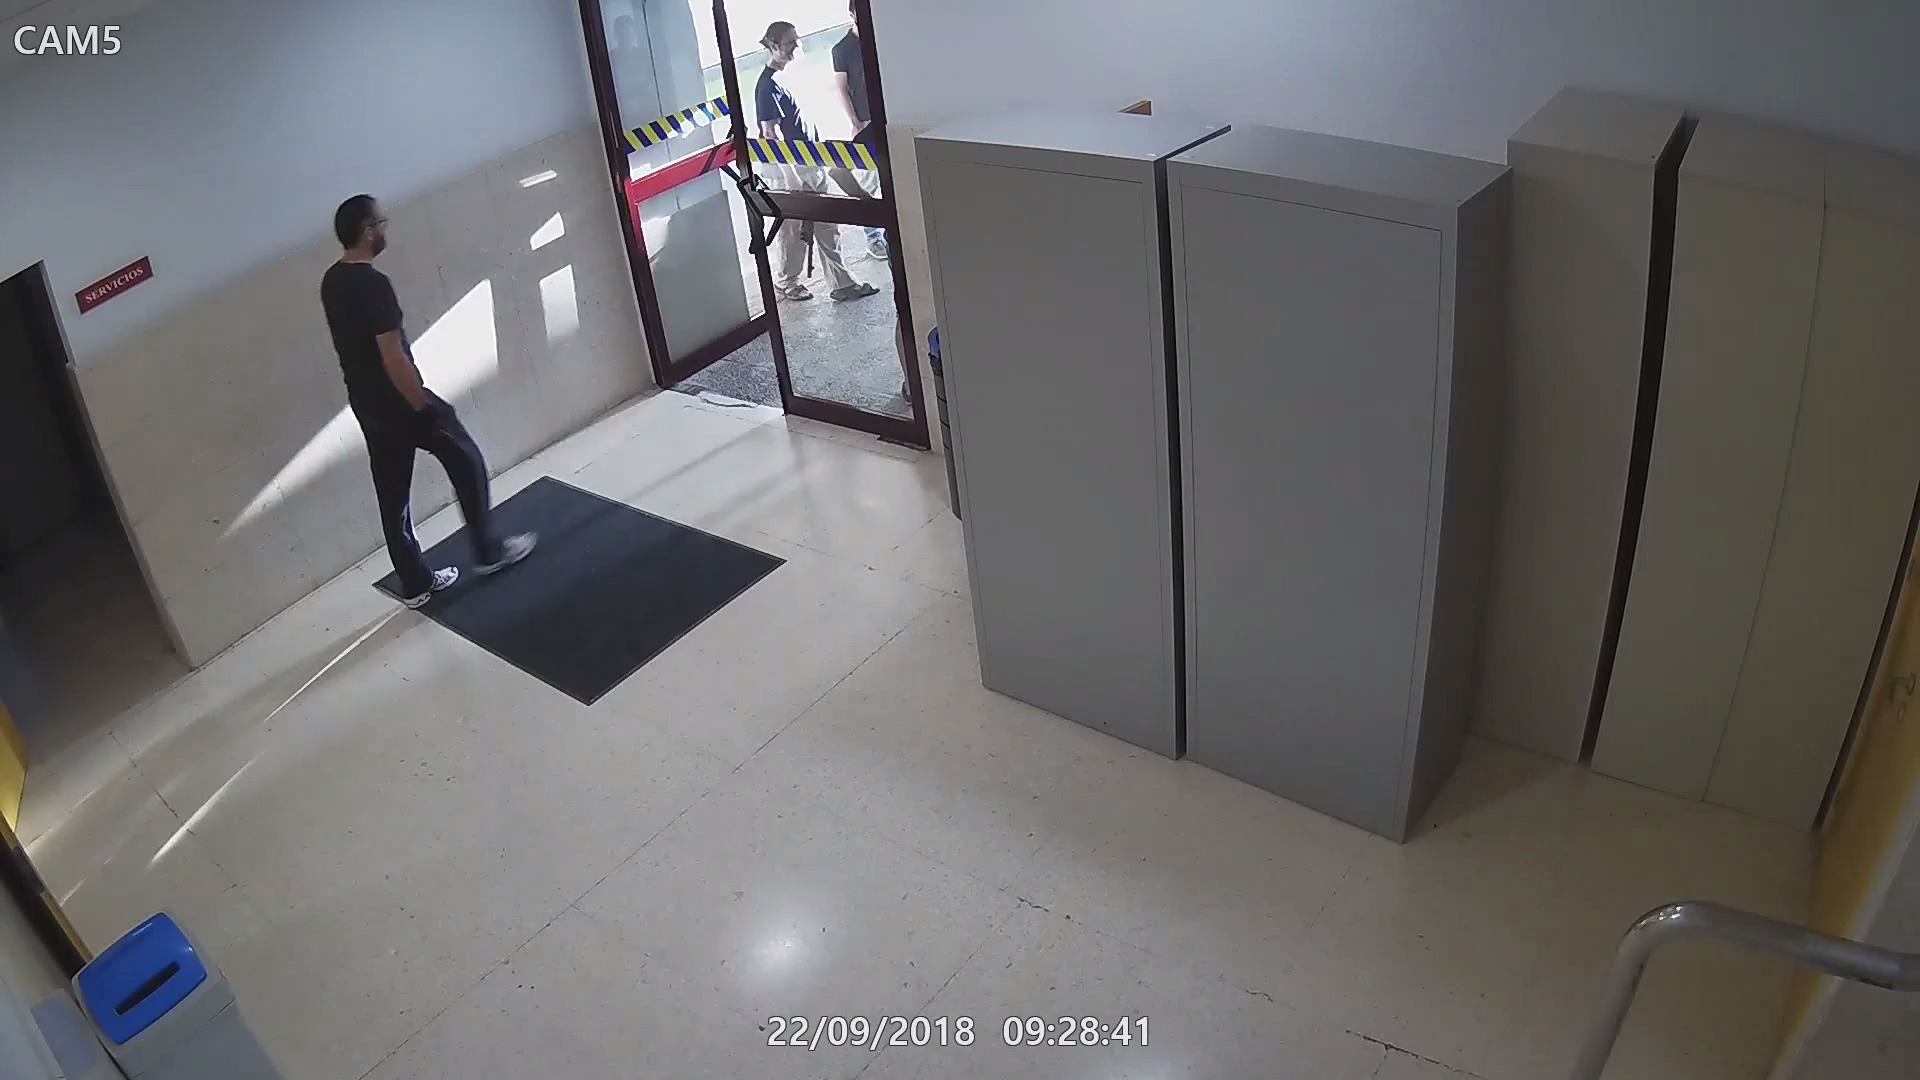Short_rifle: (785, 179, 822, 276)
